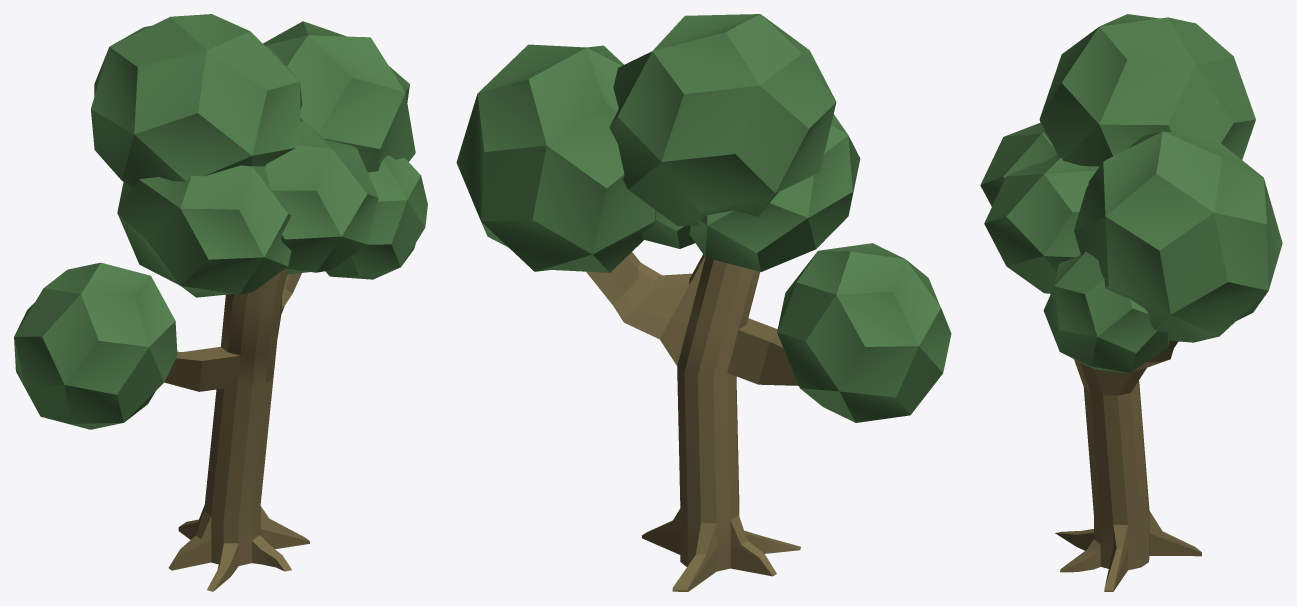
File: SM_Tree_02.fbx
The picture shows the model from 3 angles, left to right: view 1: azimuth 30°, elevation 25°; view 2: azimuth 150°, elevation 25°; view 3: azimuth 270°, elevation 25°; orthographic projection. The views are drawn at different scales.
Visible parts, largest first — view 1: pPlatonic7, pCylinder1, pPlatonic9, pPlatonic6, pPlatonic8, pPlatonic1, pPlatonic4; view 2: pPlatonic7, pPlatonic8, pCylinder1, pPlatonic9, pPlatonic6, pPlatonic1; view 3: pPlatonic8, pPlatonic7, pCylinder1, pPlatonic1, pPlatonic4, pPlatonic6.
Part boxes in pixels (x1,y1,x2,y2): pPlatonic7: (91,14,302,187); pCylinder1: (164,269,309,591); pPlatonic9: (14,262,177,429); pPlatonic6: (117,165,291,297); pPlatonic8: (263,21,415,172); pPlatonic1: (264,121,378,274); pPlatonic4: (325,155,427,279); pPlatonic7: (609,14,836,225); pPlatonic8: (456,44,656,272); pCylinder1: (586,252,800,591); pPlatonic9: (777,243,951,422); pPlatonic6: (689,114,860,271); pPlatonic1: (642,211,694,248); pPlatonic8: (1074,131,1282,342); pPlatonic7: (1039,14,1255,166); pCylinder1: (1055,341,1201,591); pPlatonic1: (984,154,1099,293); pPlatonic4: (1043,252,1169,372); pPlatonic6: (980,122,1056,206).
Size of the model in its own units: 1162 by 1428 by 749.
